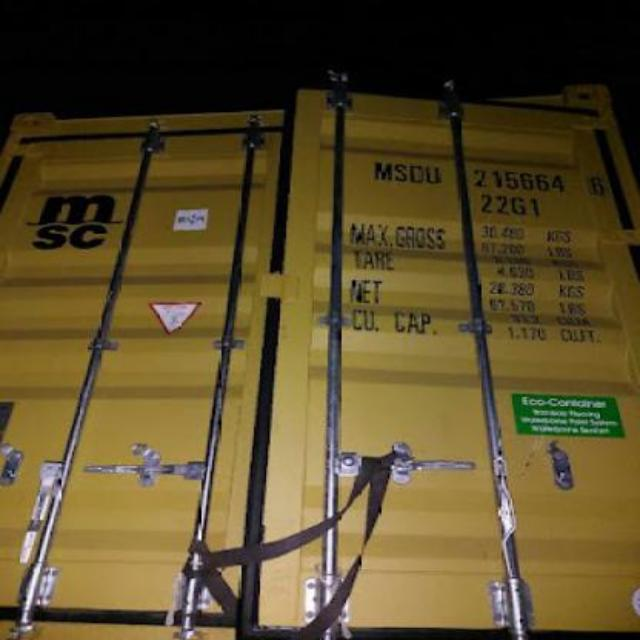1: (492, 170, 504, 190)
2: (472, 170, 488, 186)
4: (552, 173, 564, 191)
5: (506, 170, 520, 190)
6: (534, 173, 552, 191), (590, 178, 606, 194), (520, 174, 534, 188)
D: (411, 164, 424, 182)
M: (368, 160, 394, 182)
S: (394, 162, 408, 182)
U: (426, 166, 439, 184)
